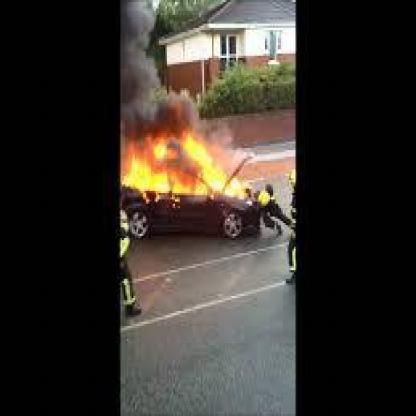fire: (124, 131, 249, 201)
other: (257, 184, 274, 205), (286, 244, 294, 272), (287, 165, 294, 181), (120, 236, 127, 251)
smoke: (121, 3, 192, 127)
